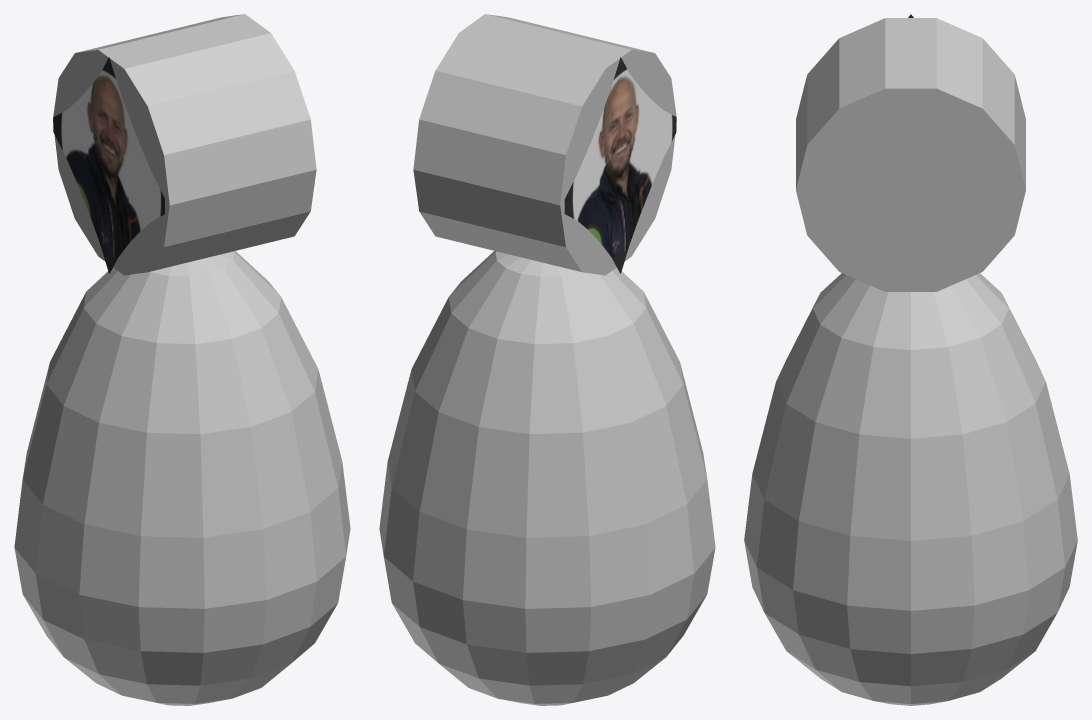
Rendered from TeachersModel-Bart.obj.
3 renders of one model, left to right at view 1: azimuth 30°, elevation 25°; view 2: azimuth 150°, elevation 25°; view 3: azimuth 270°, elevation 25°, orthographic.
Parts seen in each view (by area): view 1: Sphere, Cylinder, Bart_Auceps; view 2: Sphere, Cylinder, Bart_Auceps; view 3: Sphere, Cylinder.
Boxes of the visible parts, x1,y1,x2,y2 form: Sphere: [14, 251, 350, 705]; Cylinder: [53, 14, 316, 275]; Bart_Auceps: [53, 57, 165, 273]; Sphere: [379, 251, 715, 705]; Cylinder: [413, 14, 676, 275]; Bart_Auceps: [564, 57, 676, 273]; Sphere: [744, 273, 1077, 705]; Cylinder: [796, 18, 1025, 291].
Size of the model in its own units: 2 by 4.25 by 2.
